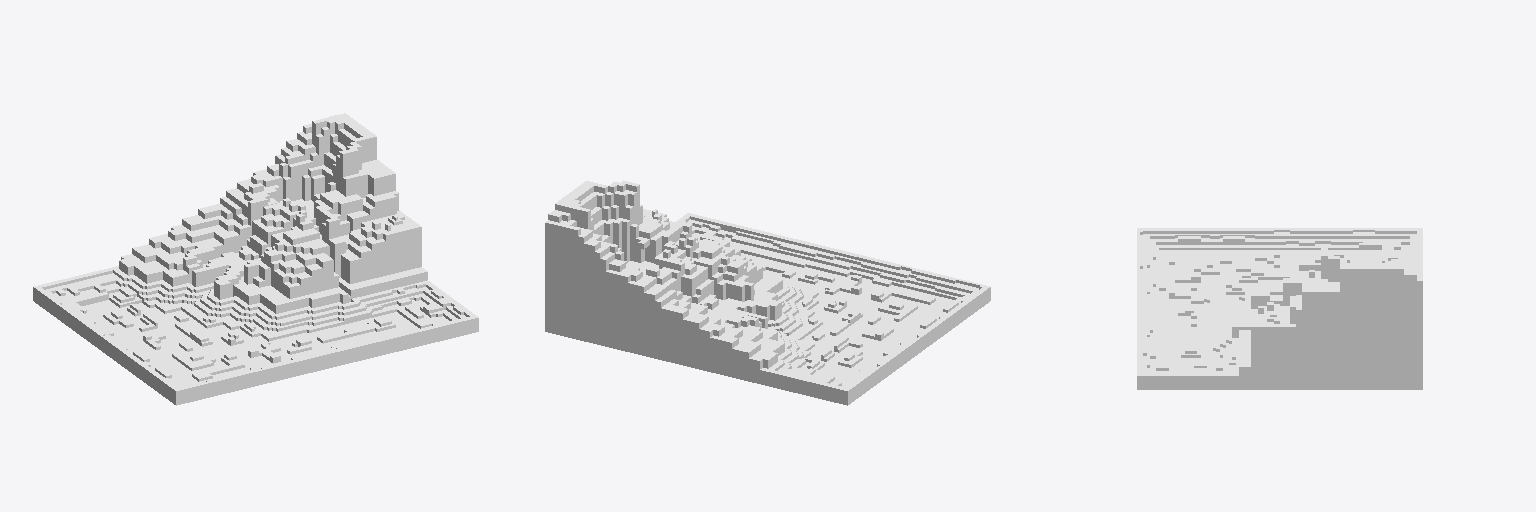
File: FinalVolcan_2.obj
The picture shows the model from 3 angles: view 1: azimuth 30°, elevation 25°; view 2: azimuth 150°, elevation 25°; view 3: azimuth 270°, elevation 25°; orthographic projection.
Visible parts, largest first — view 1: FinalVolcan_2; view 2: FinalVolcan_2; view 3: FinalVolcan_2.
Part boxes in pixels (x1,y1,x2,y2): FinalVolcan_2: (33,113,478,405); FinalVolcan_2: (545,180,990,405); FinalVolcan_2: (1137,228,1422,389).
Bounding box in the file's own units: 110 × 42 × 90.